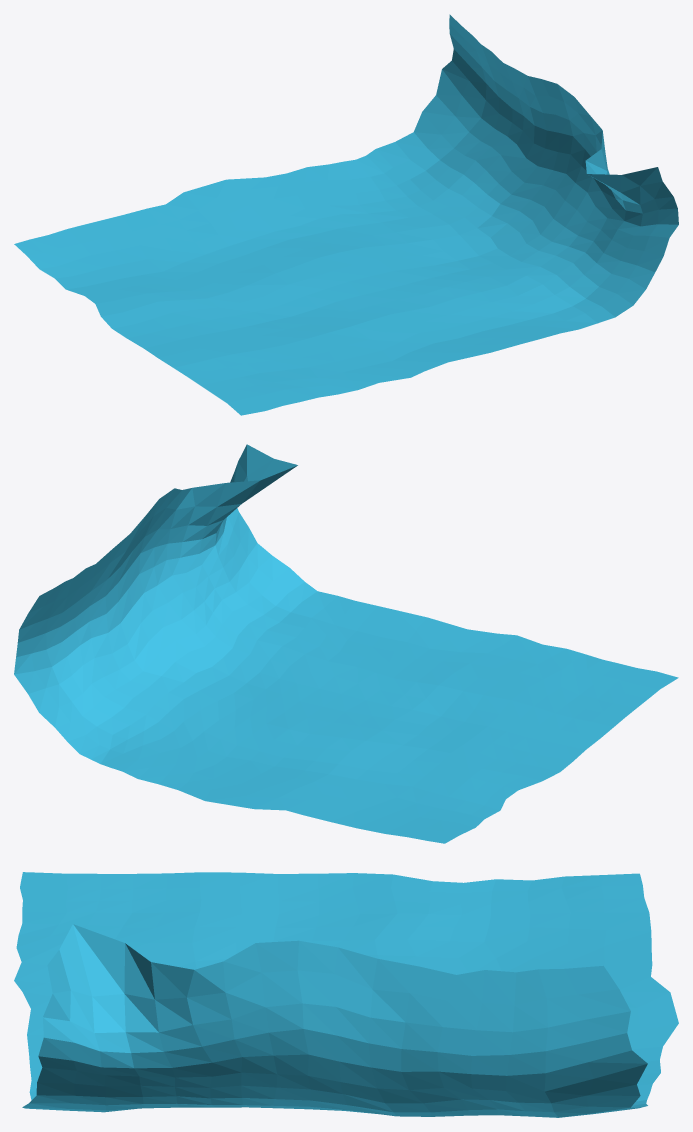
The picture shows the model from 3 angles, top to bottom: view 1: azimuth 30°, elevation 25°; view 2: azimuth 150°, elevation 25°; view 3: azimuth 270°, elevation 25°; orthographic projection. The views are drawn at different scales.
Parts seen in each view (by area): view 1: 441; view 2: 441; view 3: 441.
Boxes of the visible parts, x1=… form: 441: x1=14, y1=14, x2=678, y2=415; 441: x1=14, y1=444, x2=678, y2=843; 441: x1=14, y1=872, x2=678, y2=1117.
Size of the model in its own units: 1.93 by 0.658 by 1.86.
